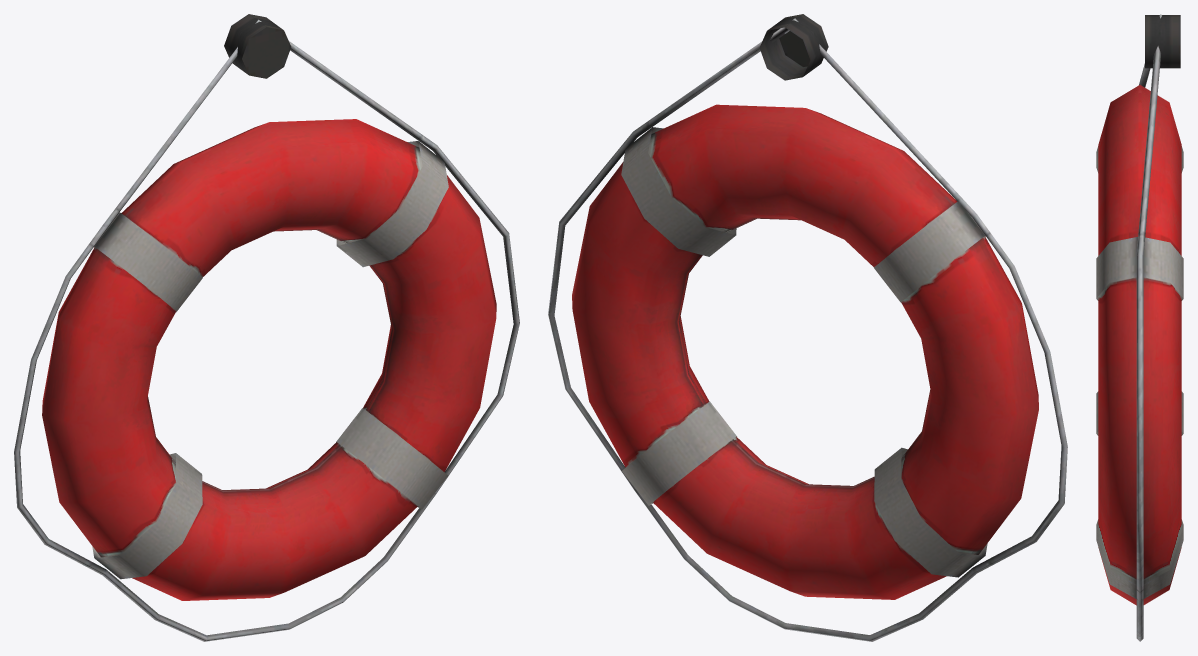
Rendered from p6_life_preserver_lod2.glb.
3 renders of one model, left to right at view 1: azimuth 30°, elevation 25°; view 2: azimuth 150°, elevation 25°; view 3: azimuth 270°, elevation 25°, orthographic. The views are drawn at different scales.
Visible parts, largest first — view 1: surf0; view 2: surf0; view 3: surf0.
Boxes of the visible parts, left/top/right/bottom form: surf0: left=14, top=14, right=519, bottom=641; surf0: left=548, top=14, right=1067, bottom=641; surf0: left=1096, top=14, right=1183, bottom=641.
Bounding box in the file's own units: 40.88 × 46.92 × 6.14.
